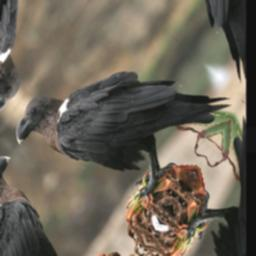Crow: (8, 0, 235, 242)
